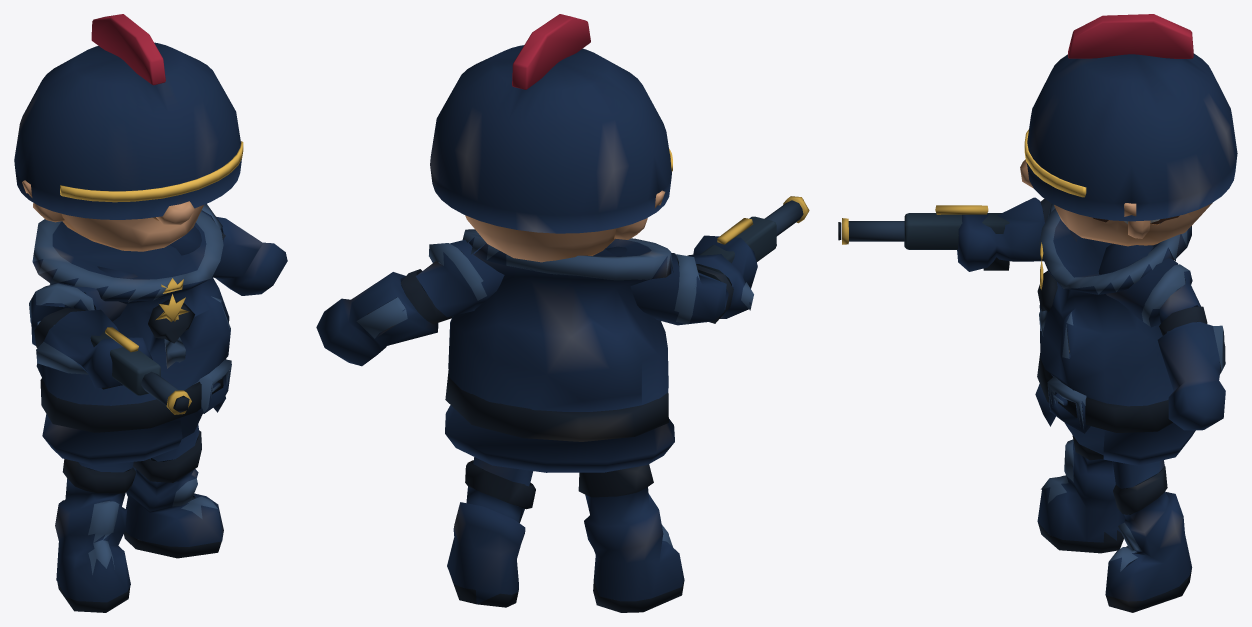
The model's file is HALFGROWN_LEGIONARY.glb.
3 renders of one model, left to right at view 1: azimuth 30°, elevation 25°; view 2: azimuth 150°, elevation 25°; view 3: azimuth 270°, elevation 25°, orthographic. The views are drawn at different scales.
Visible parts, largest first — view 1: body (×2), recoil, legR, legL; view 2: body, recoil, legR, legL; view 3: body (×2), recoil, legL, legR.
Boxes of the visible parts, box(x1,y1,x2,y2) form: body (×2): box(14, 14, 243, 465); recoil: box(29, 203, 287, 414); legR: box(55, 459, 136, 612); legL: box(124, 424, 223, 558); body: box(430, 14, 674, 472); recoil: box(316, 196, 809, 366); legR: box(578, 464, 684, 612); legL: box(447, 457, 535, 607); body (×2): box(1020, 14, 1237, 465); recoil: box(838, 197, 1225, 430); legL: box(1105, 460, 1192, 612); legR: box(1037, 435, 1125, 553).
Size of the model in its own units: 0.6318 by 0.9997 by 0.6552.
